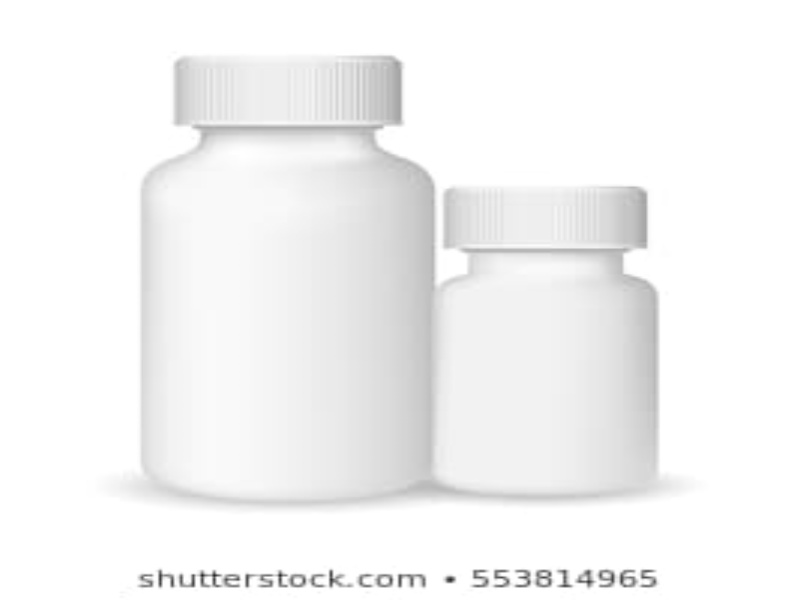detergent-bottle: (133, 52, 438, 502), (428, 181, 669, 494)
